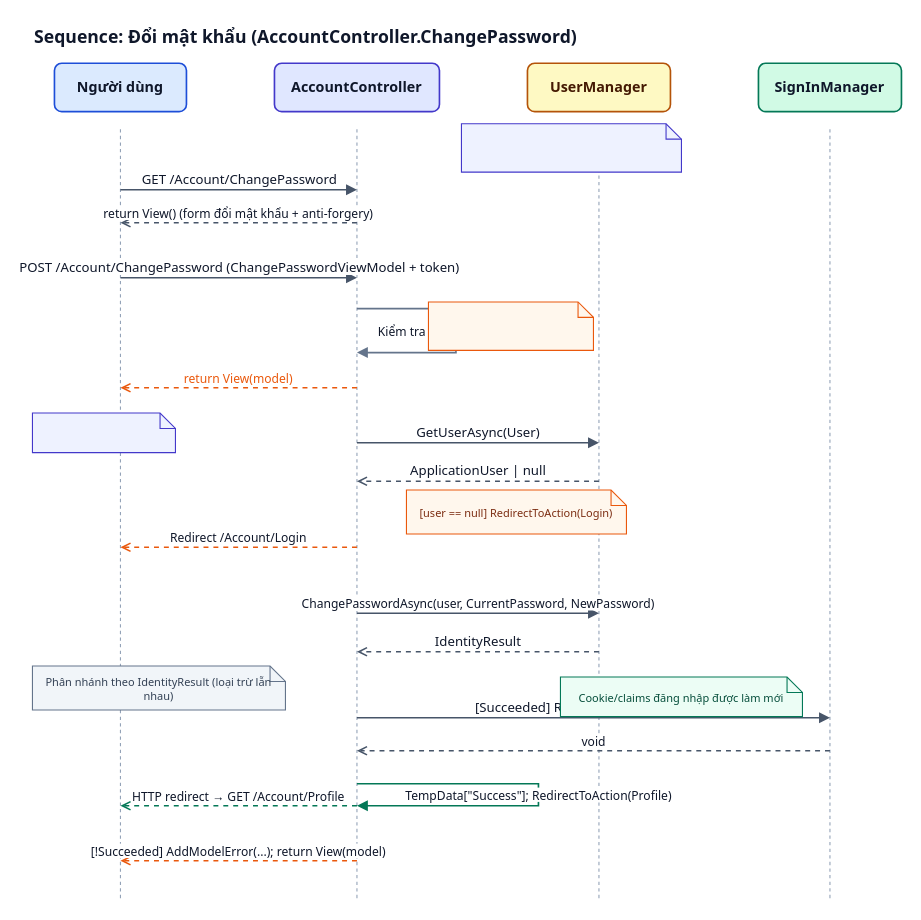
This 921x920 diagram has some shape labels left out. The shapes that lost their labels are listed below. From the top down, each one's box as (x1, y1, x2, y2) in pixels, then its label:
(460, 123, 681, 172): [Authorize] — yêu cầu đã đăng nhập
(427, 301, 593, 350): [!valid] return View(model)
(31, 412, 175, 453): [ModelState hợp lệ]
